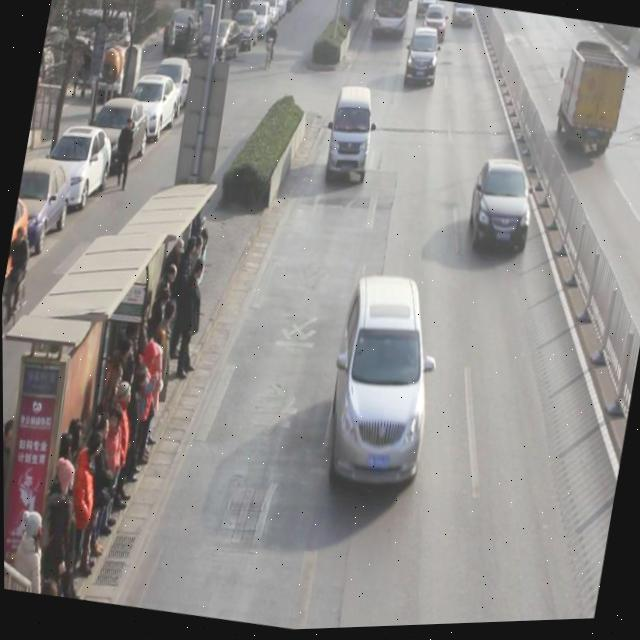bus: (552, 43, 631, 165)
car: (317, 271, 450, 502), (462, 157, 540, 268), (400, 29, 443, 97), (419, 5, 449, 49)
truck: (321, 87, 380, 193)
van: (367, 0, 409, 47)
